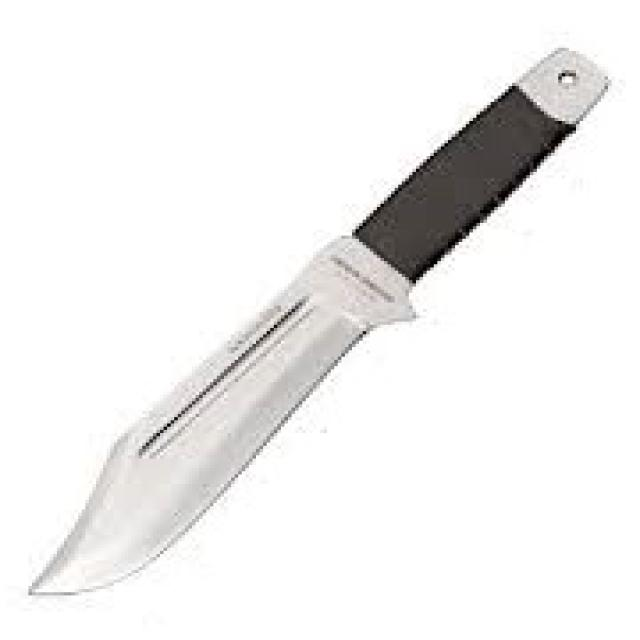knife: (2, 1, 631, 622)
